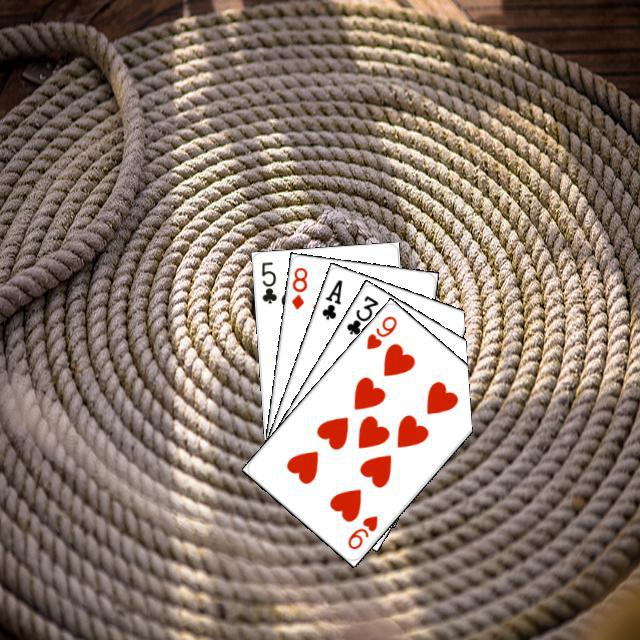3c: (341, 290, 380, 337)
5c: (256, 257, 279, 305)
8d: (286, 262, 309, 311)
9h: (342, 510, 380, 551), (361, 311, 399, 351)
Ac: (317, 274, 344, 322)
